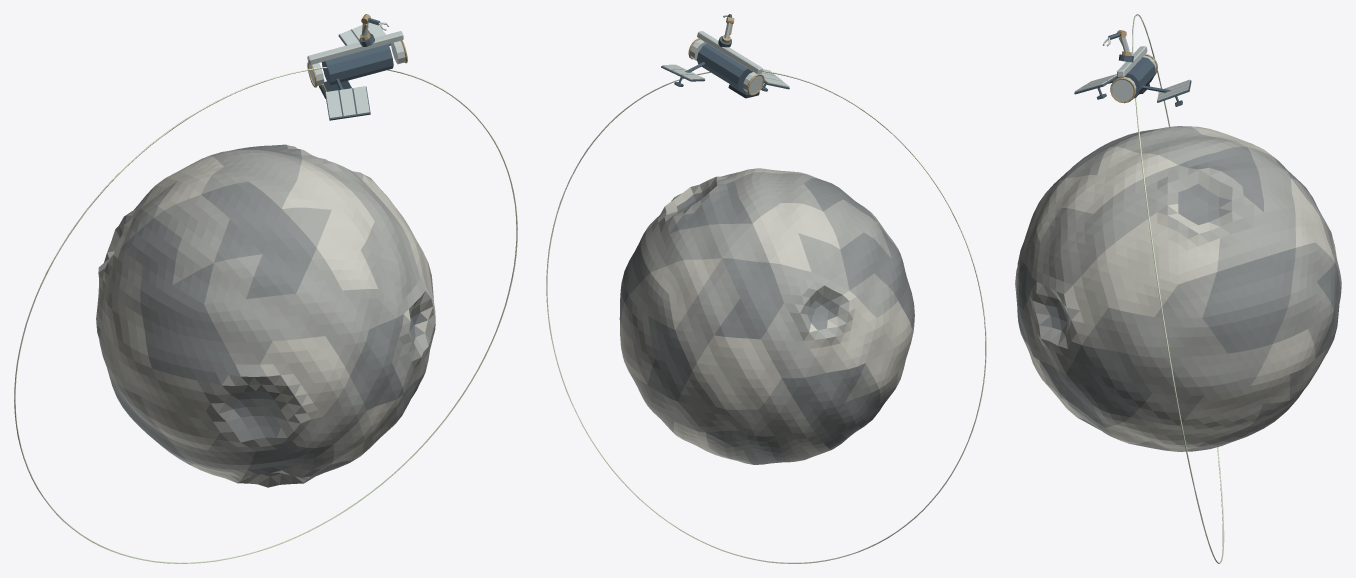
Rendered from Moon.glb.
3 renders of one model, left to right at view 1: azimuth 30°, elevation 25°; view 2: azimuth 150°, elevation 25°; view 3: azimuth 270°, elevation 25°, orthographic. The views are drawn at different scales.
Visible parts, largest first — view 1: S9_Moon • modeled surfaces; view 2: S9_Moon • modeled surfaces; view 3: S9_Moon • modeled surfaces.
Boxes of the visible parts, left/top/right/bottom form: S9_Moon • modeled surfaces: left=14, top=14, right=517, bottom=563; S9_Moon • modeled surfaces: left=546, top=14, right=986, bottom=563; S9_Moon • modeled surfaces: left=1015, top=14, right=1341, bottom=563.
Size of the model in its own units: 2.81 by 3.02 by 1.65.
